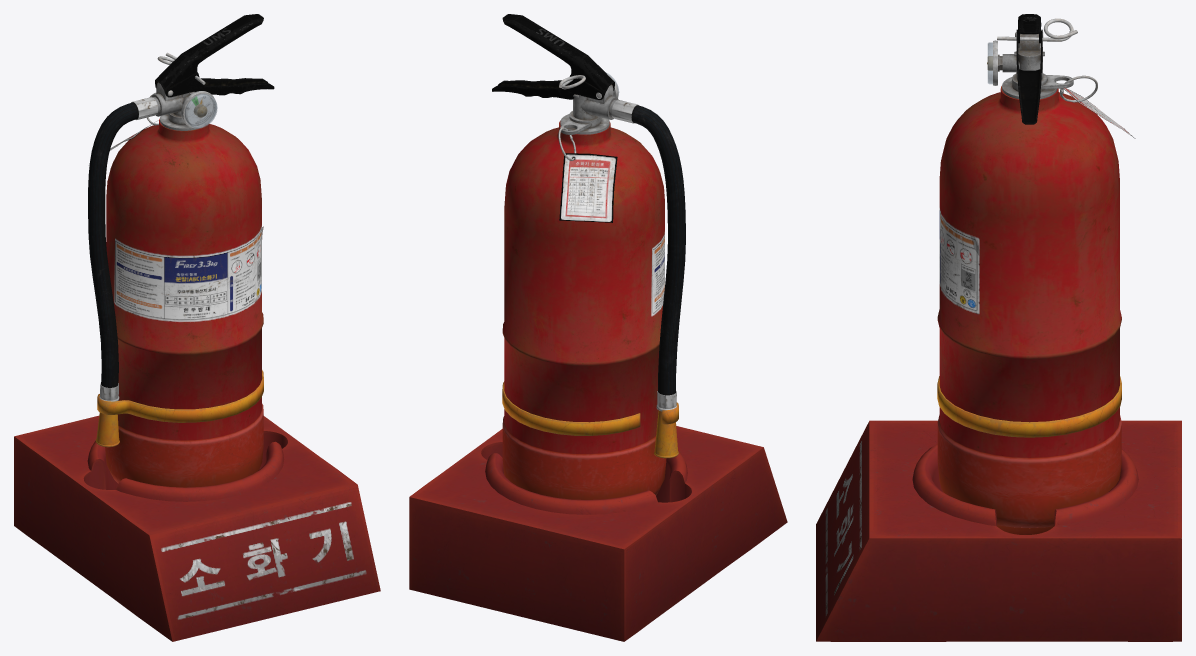
The model's file is korean_fire_extinguisher_01_4k.gltf.
3 views of the same model, side by side, from view 1: azimuth 30°, elevation 25°; view 2: azimuth 150°, elevation 25°; view 3: azimuth 270°, elevation 25° (orthographic). The views are drawn at different scales.
Parts seen in each view (by area): view 1: korean_fire_extinguisher_01; view 2: korean_fire_extinguisher_01; view 3: korean_fire_extinguisher_01.
Boxes of the visible parts, x1=… form: korean_fire_extinguisher_01: x1=14, y1=14, x2=380, y2=641; korean_fire_extinguisher_01: x1=409, y1=14, x2=787, y2=641; korean_fire_extinguisher_01: x1=816, y1=14, x2=1181, y2=641.
Bounding box in the file's own units: 0.28 × 0.6593 × 0.3674.
3 materials, 3 textured.
